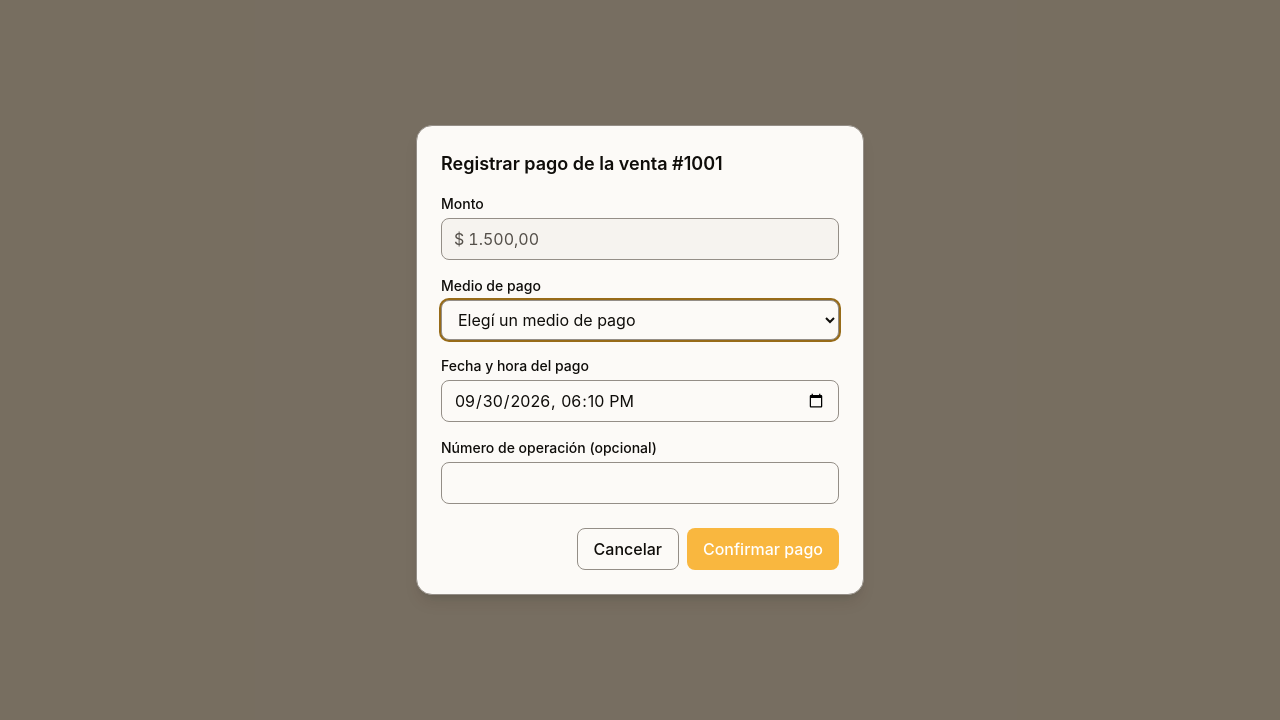
Test: ModalRegistrarPago - en línea › sin fecha, pide indicarla y no escribe
The image size is (1280, 720).
Select "Efectivo" in the dropdown labelled "Medio de pago". click: (640,320)
box: [441,300,839,340]
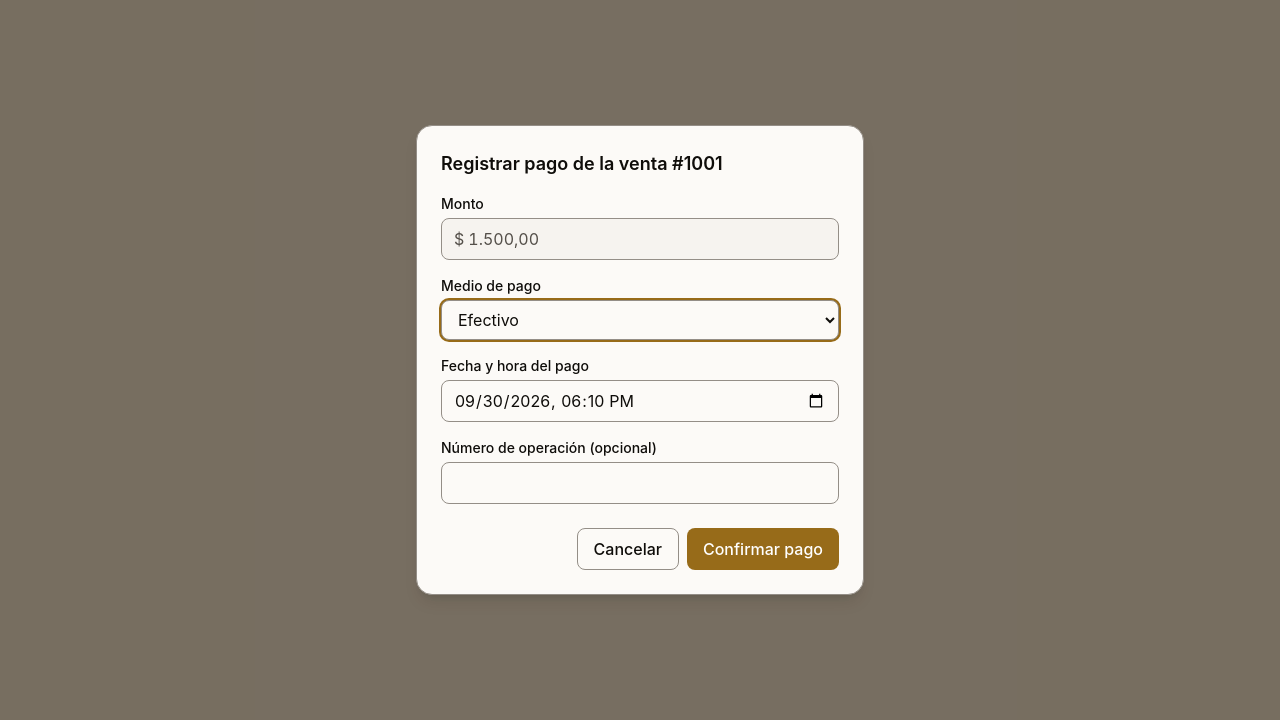
Clear the field labelled "Fecha y hora del pago". click: (640,401)
box: [441,380,839,422]
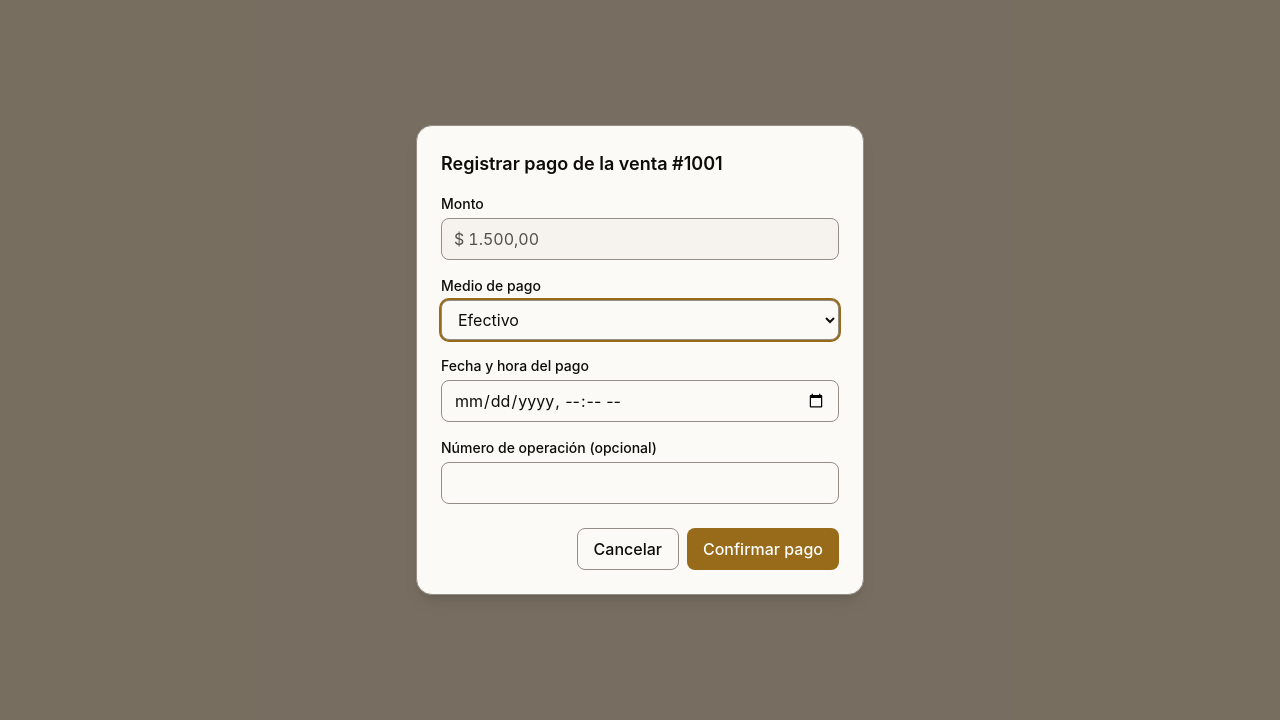
Click the button "Confirmar pago". click: (763,549)
box: [687,528,839,570]
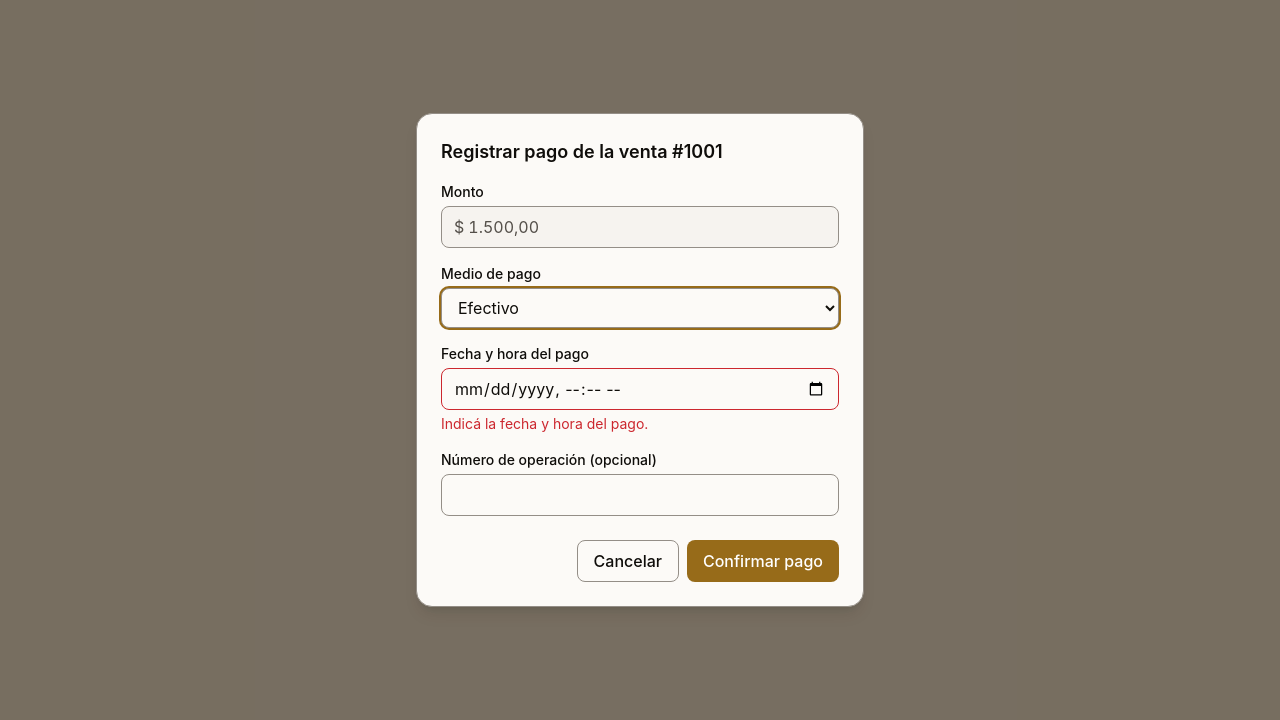
expect the text "Indicá la fecha y hora del pago." is shown: met, box [441,415,648,432]
